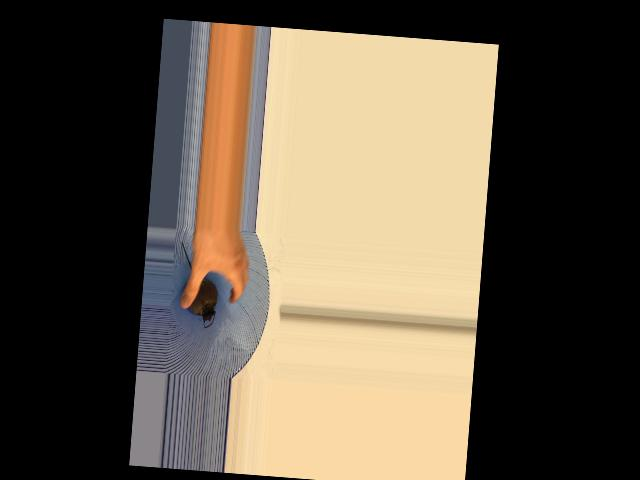beet: (174, 242, 221, 329)
